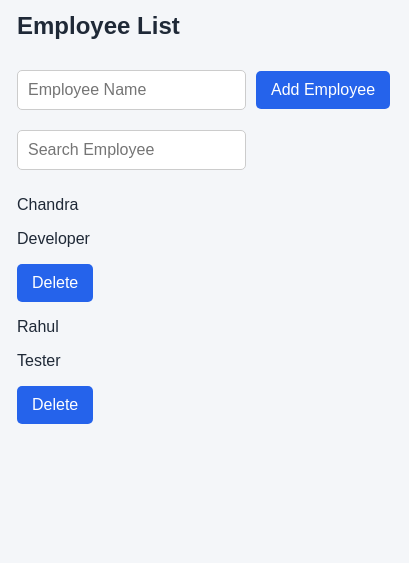
Employee Workflow › adds and deletes an employee
The width and height of the screenshot is (409, 563).
Type "Kiran" into the field with placeholder "Employee Name" at (132, 90), box [17, 70, 246, 110]
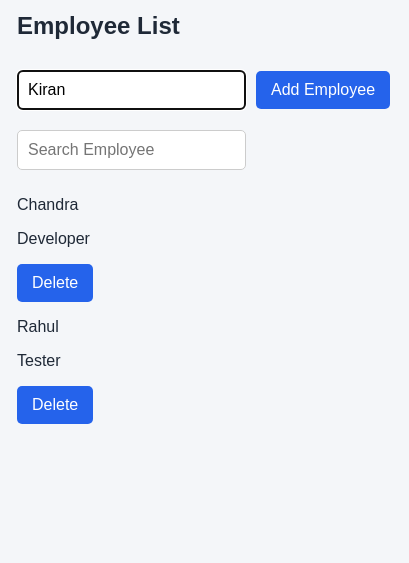
Click the button "Add Employee" at (323, 90), box [256, 71, 390, 109]
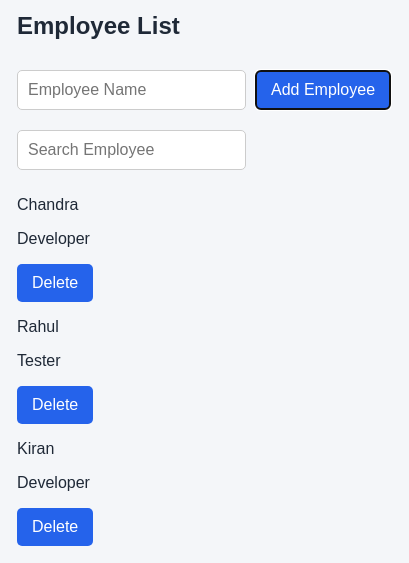
Check: the text "Kiran" is shown, box [17, 440, 54, 457]
Click the button "Delete" below "Kiran" at (55, 527), box [17, 508, 93, 546]
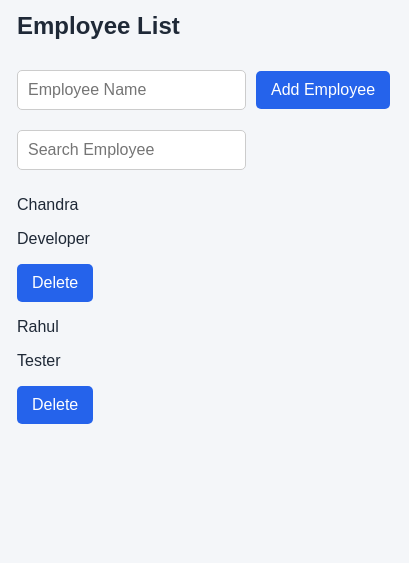
Check: the text "Kiran" is gone
